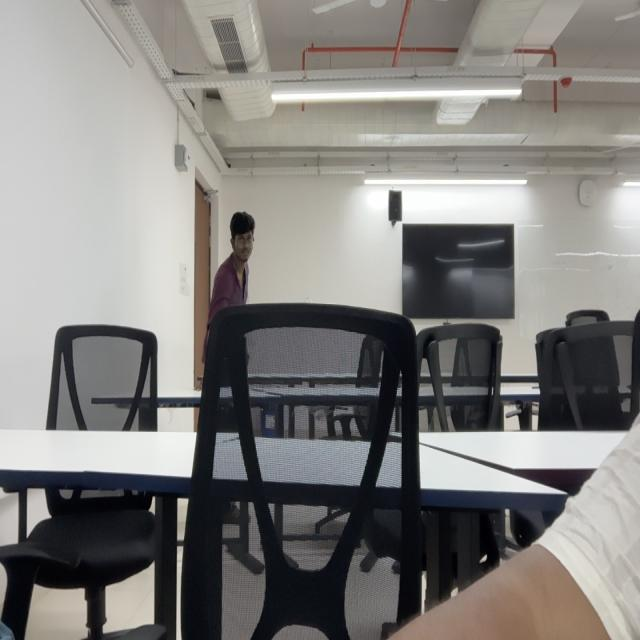ravindra: (229, 210, 256, 264)
